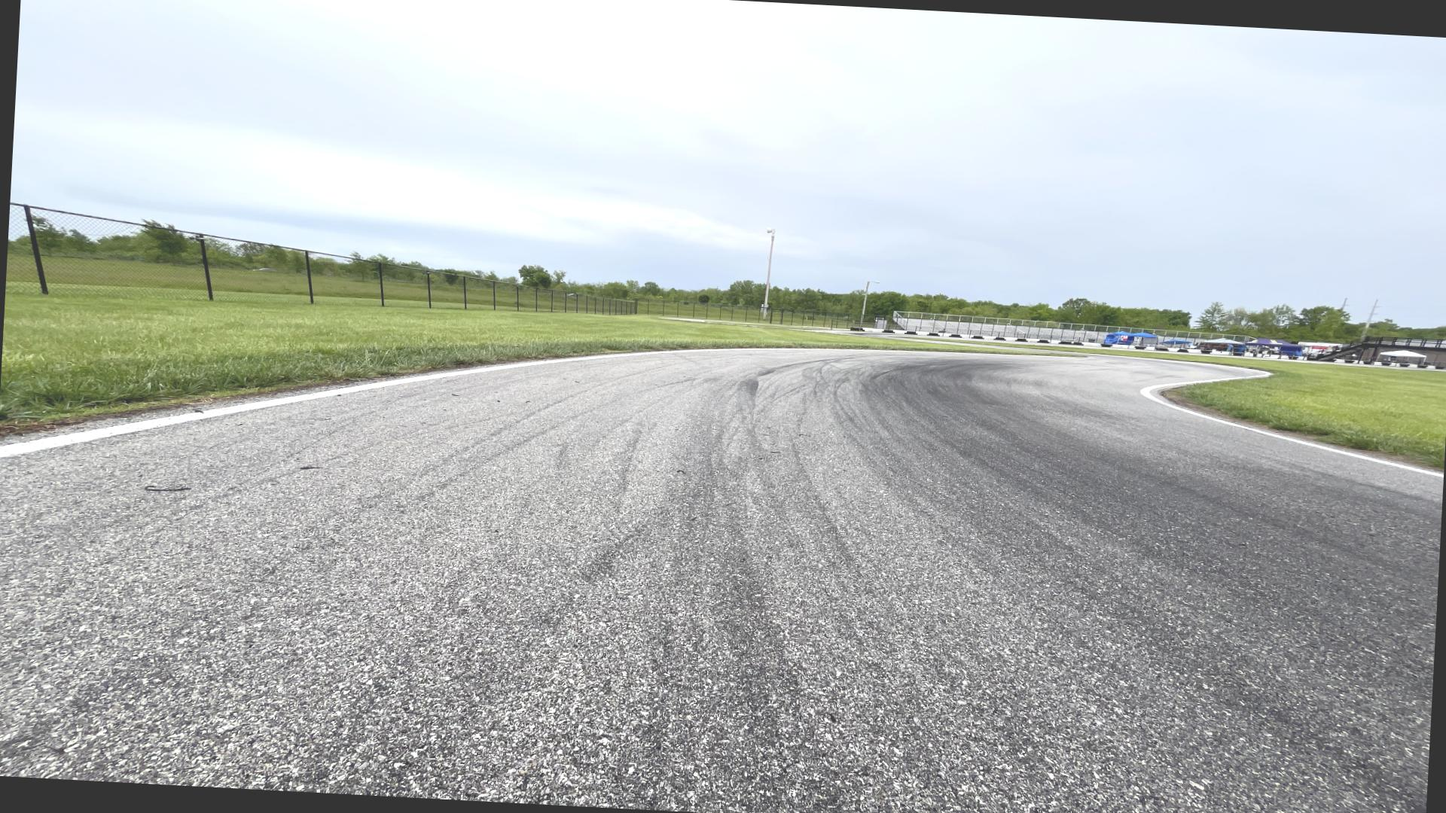white-line: (0, 348, 1091, 461), (1139, 361, 1443, 480)
